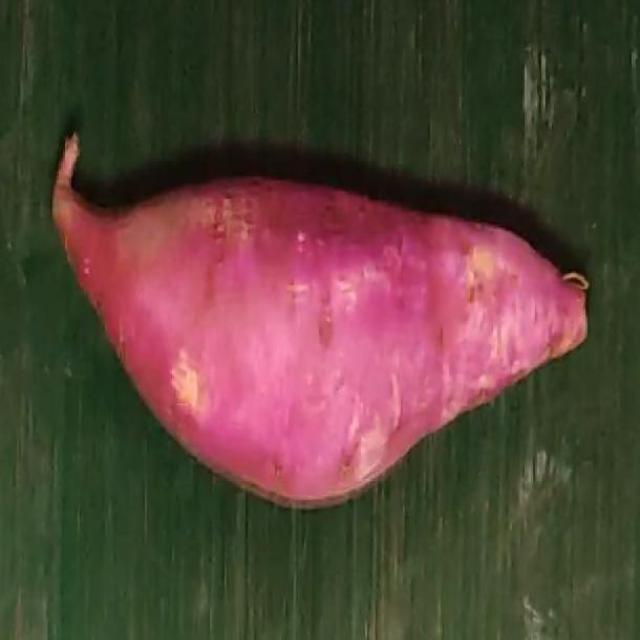Sweet Potato: (50, 134, 590, 504)
